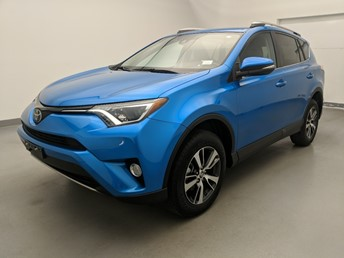Toyota RAV-4: (15, 26, 326, 219)
